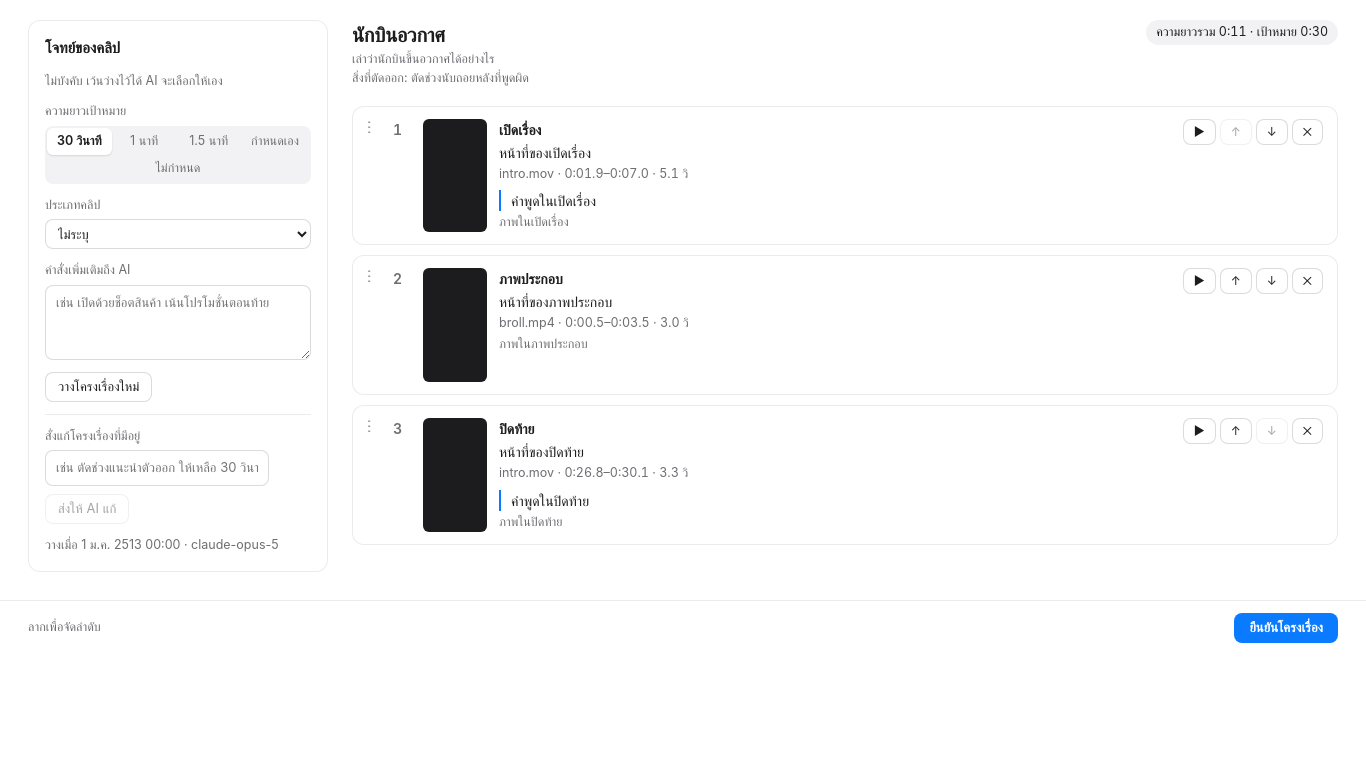
Scenario: the user can tell the AI what to change
Type "ตัดช่วงปิดท้ายออก" into the field labelled "สั่งแก้โครงเรื่องที่มีอยู่" at (157, 468), box 45,450 -> 269,486
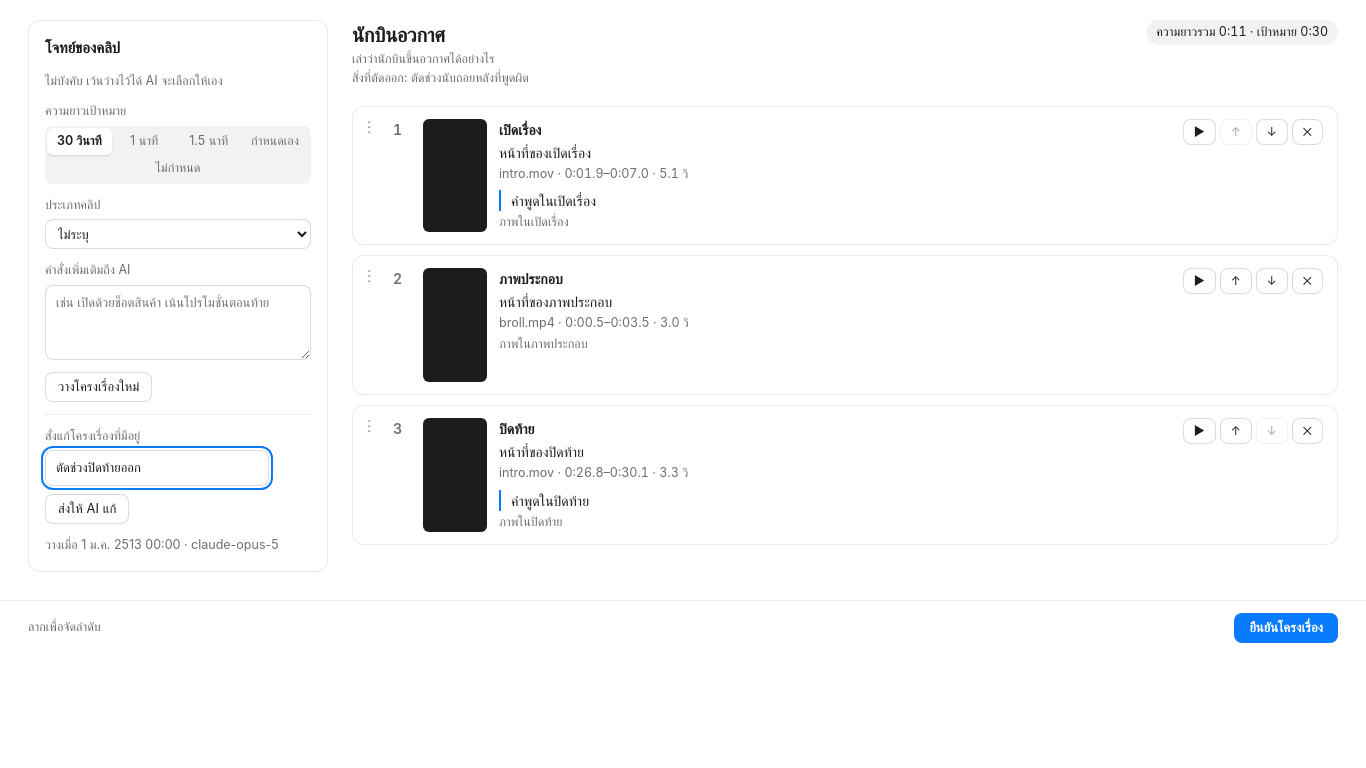
Click the button "ส่งให้ AI แก้" at (87, 509), box 45,494 -> 129,524
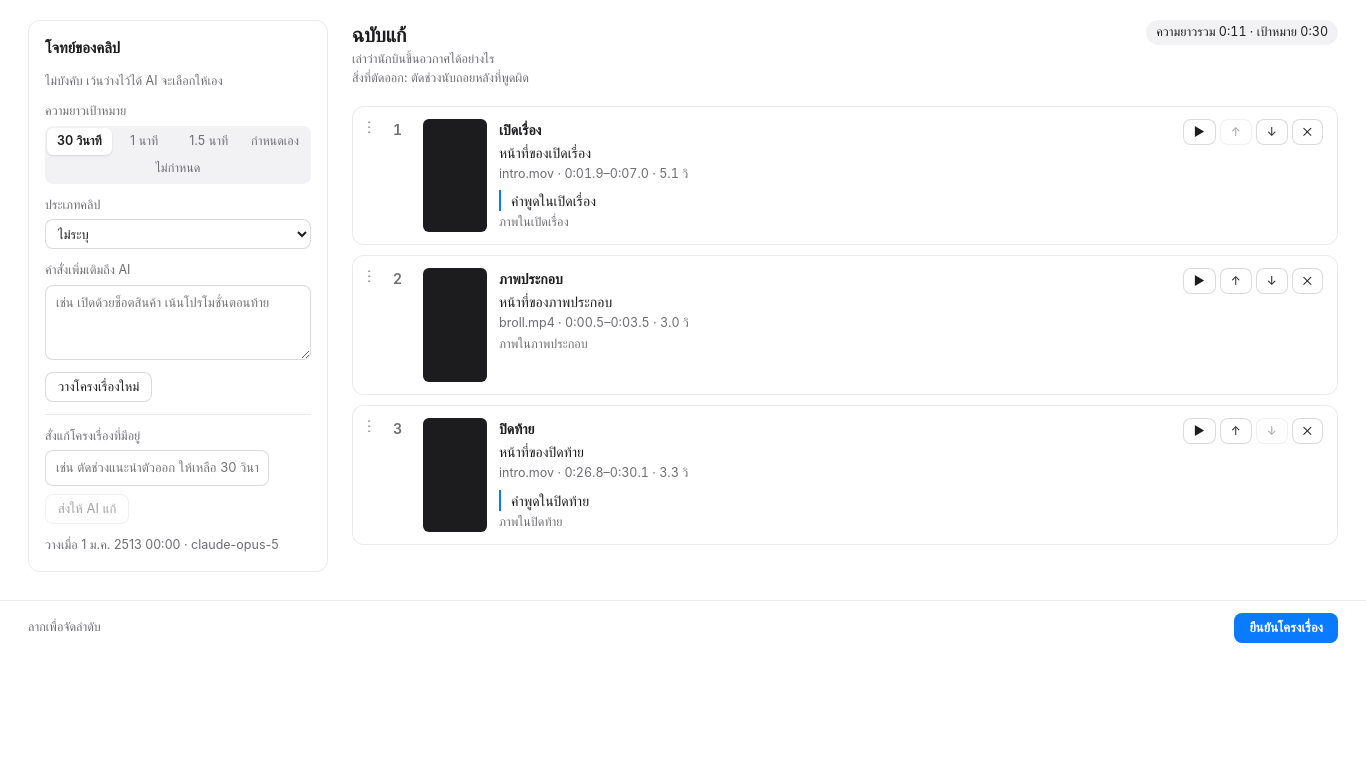
Result: the heading "ฉบับแก้" is shown at 352,23 -> 406,47
